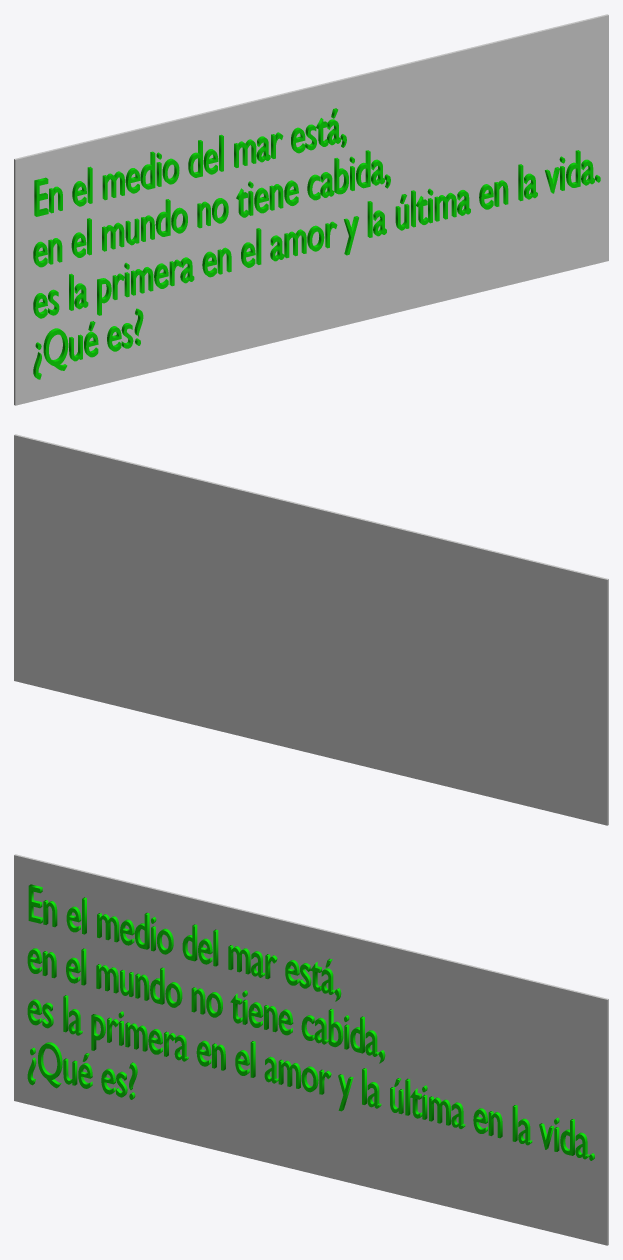
Rendered from Acertijo13.glb.
The picture shows the model from 3 angles, top to bottom: view 1: azimuth 30°, elevation 25°; view 2: azimuth 150°, elevation 25°; view 3: azimuth 330°, elevation 25°; orthographic projection.
Parts seen in each view (by area): view 1: Cube, Text; view 2: Cube; view 3: Cube, Text.
Part boxes in pixels (x1,y1,x2,y2): Cube: (14,14,608,405); Text: (33,108,600,379); Cube: (14,434,608,825); Cube: (14,854,608,1245); Text: (27,884,594,1160).
Bounding box in the file's own units: 6.08 × 2.41 × 0.0823.
